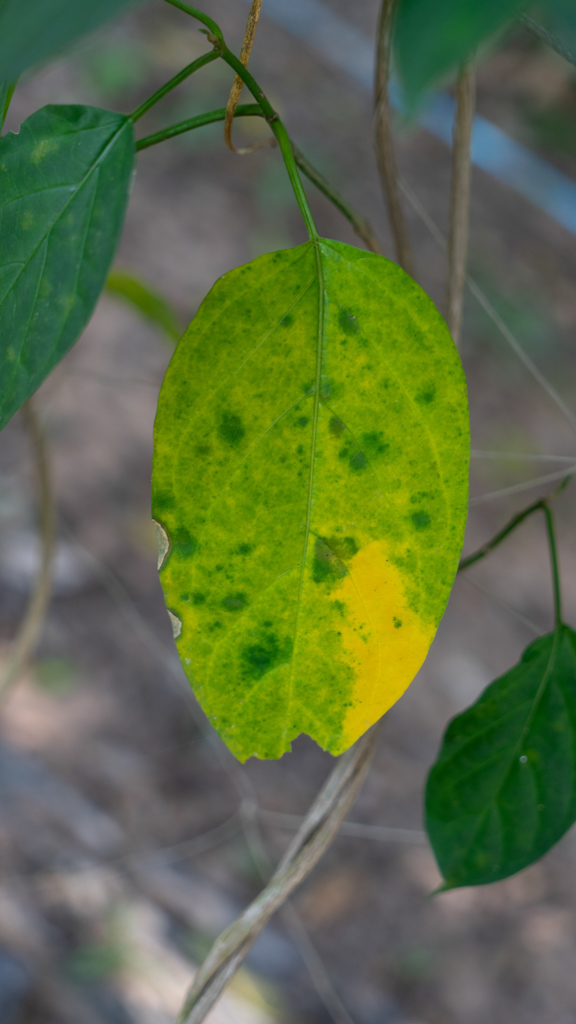Pepper yellow leaf: (151, 234, 470, 765)
